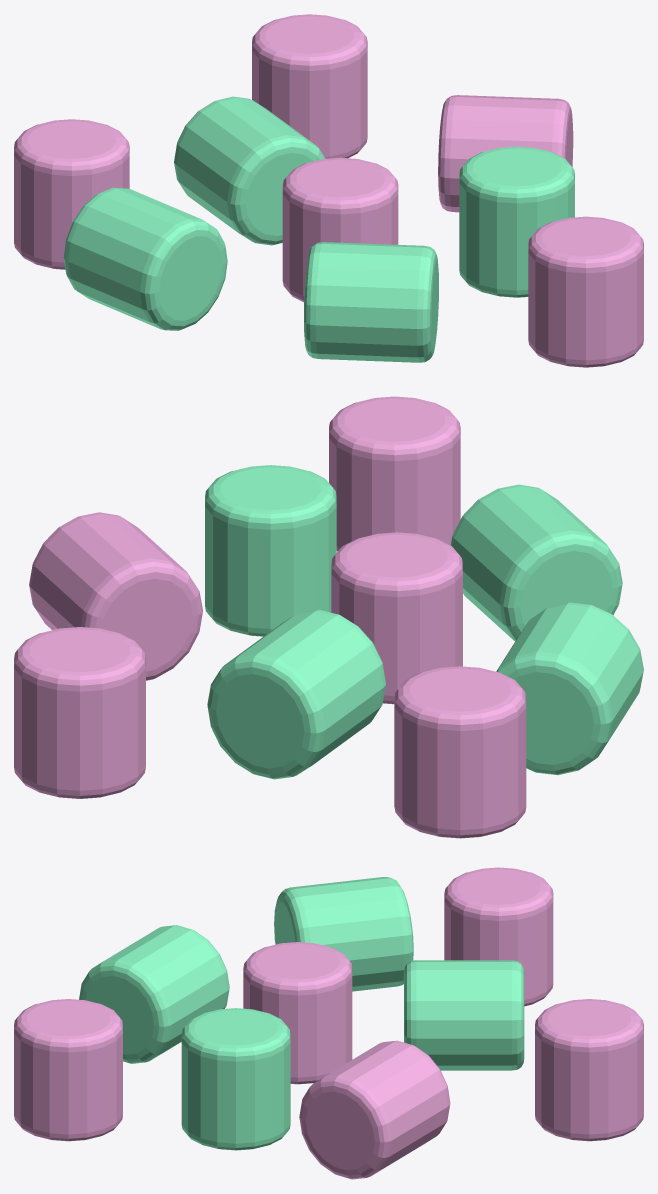
The model's file is fec1a617-6cc0-41d8-a61a-6628d6ea1fb8.glb.
3 views of the same model, one above another, from view 1: azimuth 30°, elevation 25°; view 2: azimuth 150°, elevation 25°; view 3: azimuth 270°, elevation 25° (orthographic). The views are drawn at different scales.
Parts seen in each view (by area): view 1: Cylinder004, Cylinder007, Cylinder003, Cylinder002, Cylinder008, Cylinder005, Cylinder006, Cylinder001, Cylinder009; view 2: Cylinder002, Cylinder006, Cylinder008, Cylinder005, Cylinder009, Cylinder007, Cylinder003, Cylinder004, Cylinder001; view 3: Cylinder009, Cylinder005, Cylinder007, Cylinder008, Cylinder002, Cylinder003, Cylinder001, Cylinder004, Cylinder006.
Part boxes in pixels (<box>): Cylinder004: <box>63,187,227,330</box>; Cylinder007: <box>528,216,643,367</box>; Cylinder003: <box>304,242,438,362</box>; Cylinder002: <box>174,96,325,245</box>; Cylinder008: <box>252,14,367,158</box>; Cylinder005: <box>459,146,574,297</box>; Cylinder006: <box>14,119,129,269</box>; Cylinder001: <box>282,157,398,302</box>; Cylinder009: <box>438,95,573,212</box>; Cylinder002: <box>207,609,385,779</box>; Cylinder006: <box>394,666,526,838</box>; Cylinder008: <box>14,627,145,798</box>; Cylinder005: <box>205,465,336,636</box>; Cylinder009: <box>29,512,202,680</box>; Cylinder007: <box>329,396,460,551</box>; Cylinder003: <box>450,484,622,641</box>; Cylinder004: <box>496,602,643,775</box>; Cylinder001: <box>331,532,462,704</box>; Cylinder009: <box>299,1040,450,1179</box>; Cylinder005: <box>181,1008,290,1150</box>; Cylinder007: <box>14,999,122,1141</box>; Cylinder008: <box>535,999,643,1141</box>; Cylinder002: <box>404,960,524,1070</box>; Cylinder003: <box>79,925,229,1063</box>; Cylinder001: <box>243,942,352,1084</box>; Cylinder004: <box>274,877,413,991</box>; Cylinder006: <box>444,867,553,1006</box>.
Size of the model in its own units: 479915 by 98847 by 546907.
